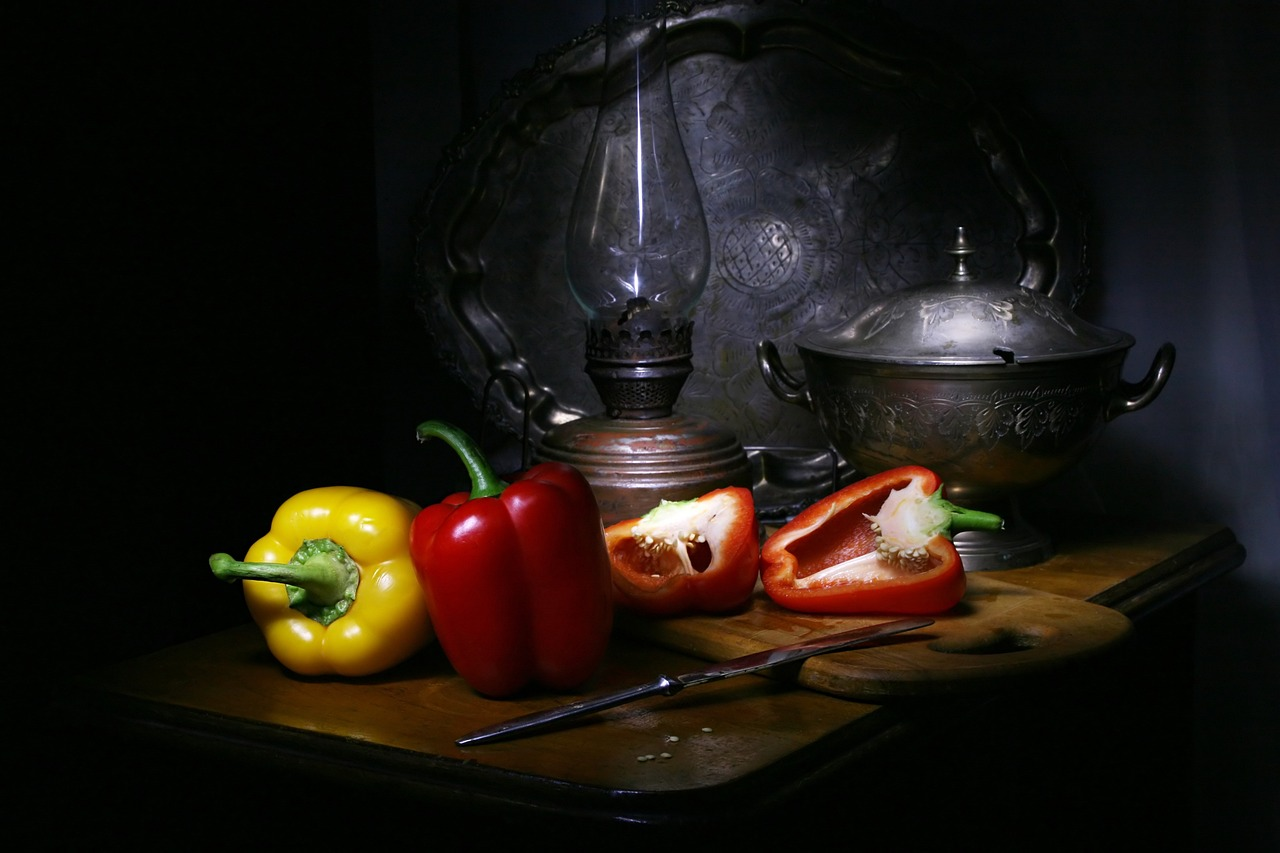knife: (445, 612, 944, 762)
